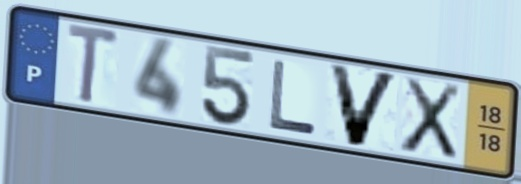4: (129, 33, 187, 121)
5: (198, 41, 258, 129)
L: (267, 57, 320, 138)
T: (64, 19, 123, 108)
V: (325, 60, 404, 150)
X: (397, 75, 464, 163)
